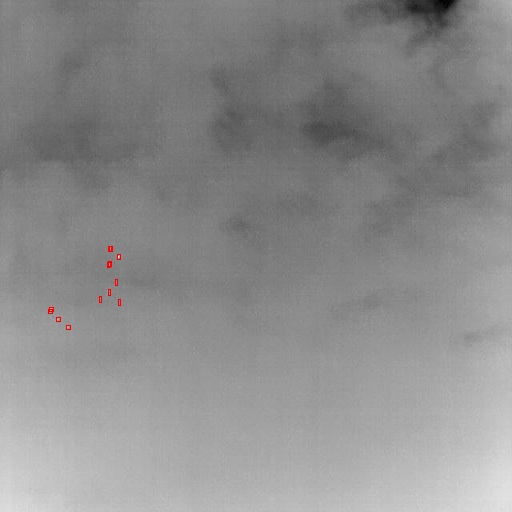Target: (56, 317, 60, 321), (63, 307, 67, 311), (46, 308, 50, 312), (46, 307, 50, 311), (64, 310, 68, 314), (64, 309, 68, 313), (66, 327, 70, 331), (117, 254, 120, 259), (109, 246, 112, 251), (125, 244, 128, 249), (108, 262, 111, 267), (126, 245, 129, 250), (125, 264, 128, 269), (125, 261, 128, 266), (126, 244, 129, 249), (108, 289, 110, 295), (101, 299, 103, 305), (115, 297, 117, 303), (100, 280, 102, 286), (118, 279, 120, 285), (100, 297, 102, 303), (101, 279, 103, 285)
